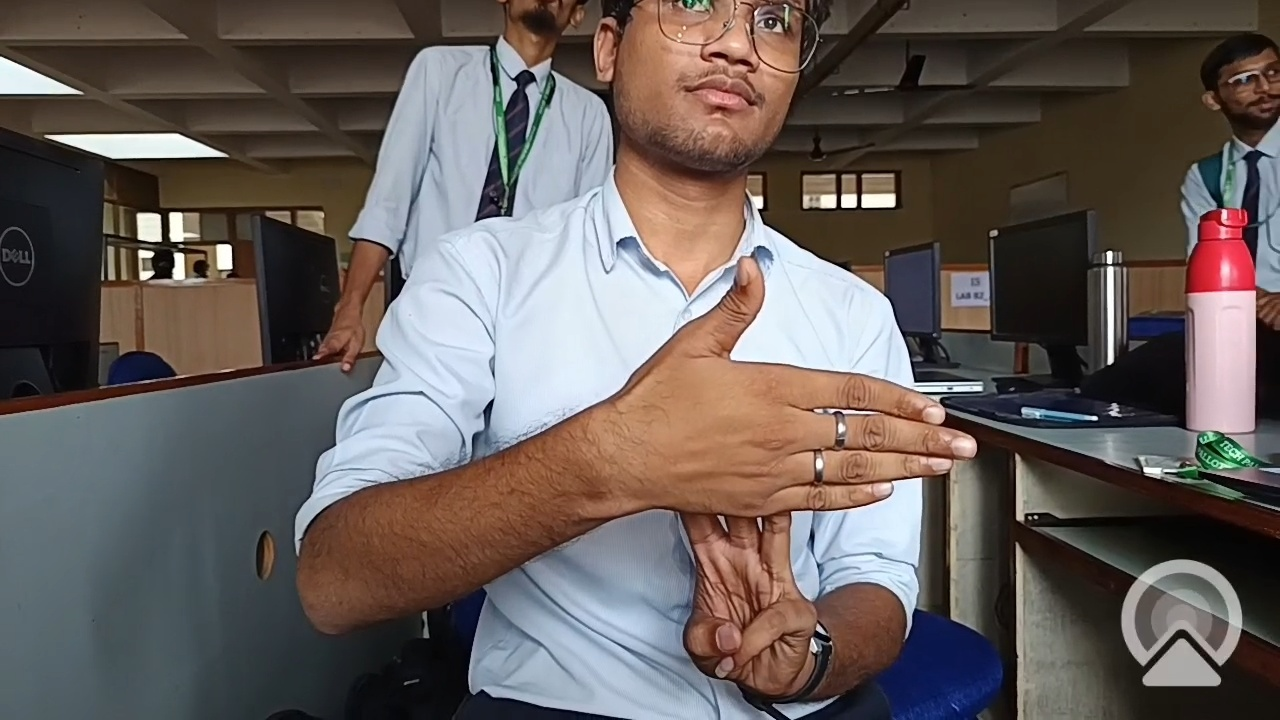M: (585, 242, 989, 703)
